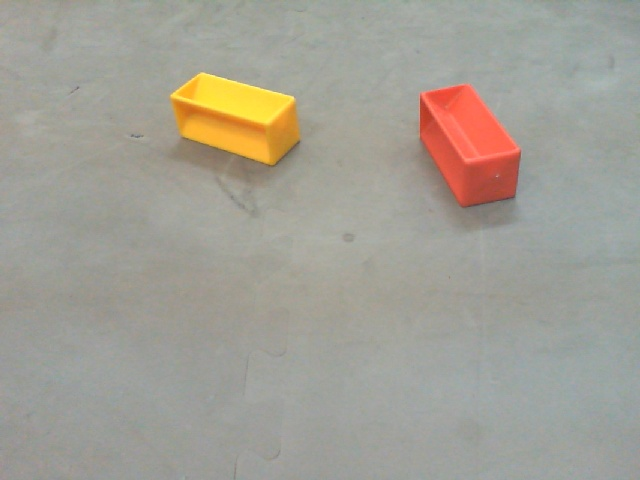RedSample: (412, 81, 526, 206)
YellowSample: (167, 70, 303, 168)
